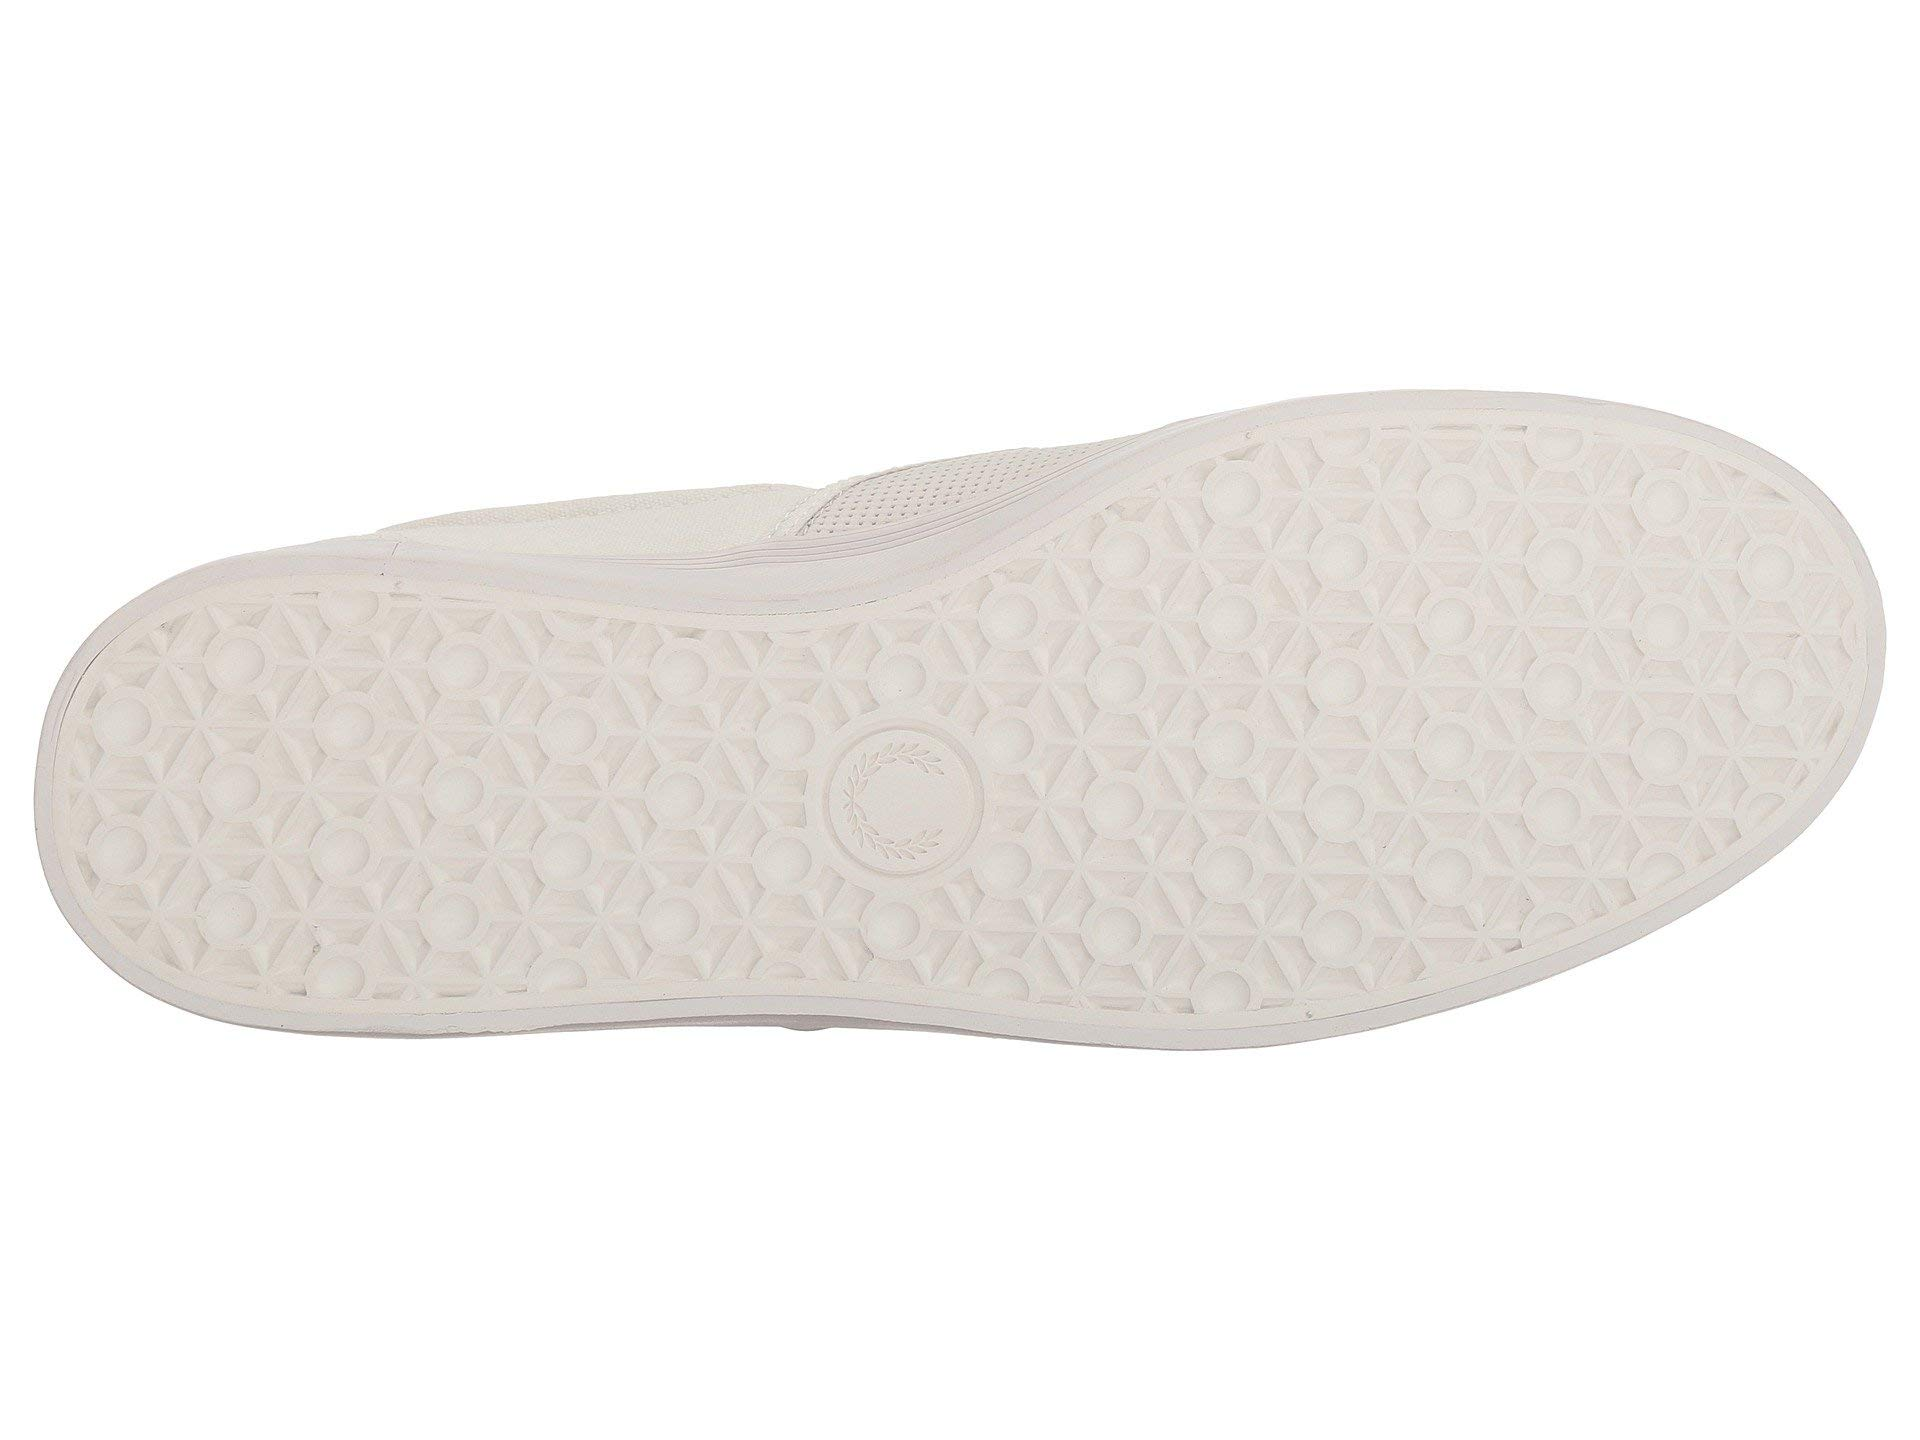circle: (1082, 563, 1454, 983), (163, 641, 540, 992)
polygon: (1082, 563, 1454, 983), (163, 641, 540, 992)
quad: (1082, 563, 1454, 983), (163, 641, 540, 992)
